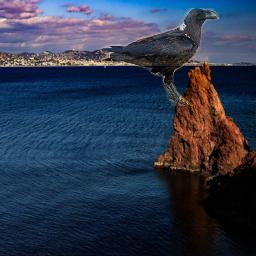Crow: (100, 8, 220, 106)
